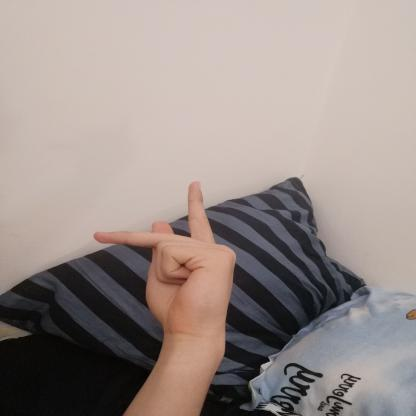DHAA: (83, 174, 247, 352)
